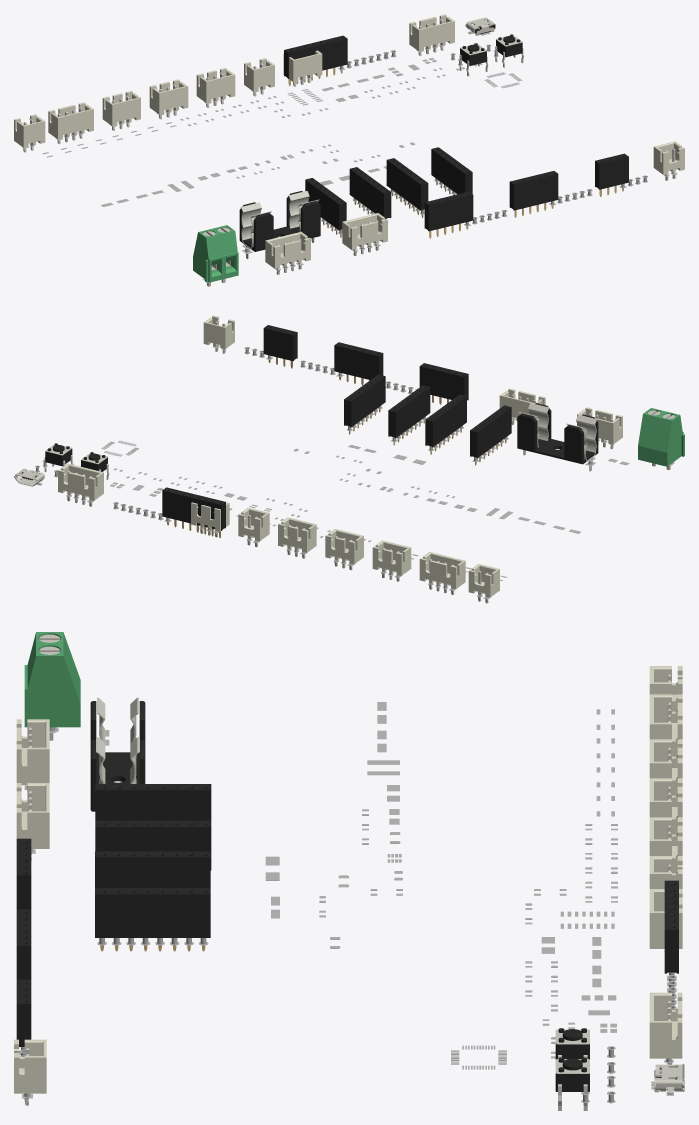
File: tht_pins.glb
3 views of the same model, one above another, from view 1: azimuth 30°, elevation 25°; view 2: azimuth 150°, elevation 25°; view 3: azimuth 270°, elevation 25° (orthographic). The views are drawn at different scales.
Parts seen in each view (by area): view 1: =>[0:1:1:5] (×5), =>[0:1:1:7] (×4), =>[0:1:1:21] (×4), =>[0:1:1:22], =>[0:1:1:11] (×2), =>[0:1:1:19], =>[0:1:1:13] (×3), =>[0:1:1:9], =>[0:1:1:17] (×2), =>[0:1:1:15]; view 2: =>[0:1:1:5] (×5), =>[0:1:1:7] (×4), =>[0:1:1:21] (×4), =>[0:1:1:22], =>[0:1:1:19], =>[0:1:1:11] (×2), =>[0:1:1:13] (×3), =>[0:1:1:9], =>[0:1:1:15], =>[0:1:1:17] (×2); view 3: =>[0:1:1:5] (×5), =>[0:1:1:7] (×4), =>[0:1:1:22], =>[0:1:1:21] (×4), =>[0:1:1:9], =>[0:1:1:13] (×3), =>[0:1:1:19], =>[0:1:1:17] (×2), =>[0:1:1:11] (×2), =>[0:1:1:15], =>[0:1:1:3].
Boxes of the visible parts, <box> form: =>[0:1:1:5] (×5): <box>284,35,472,237</box>; =>[0:1:1:7] (×4): <box>48,14,454,274</box>; =>[0:1:1:21] (×4): <box>102,50,322,130</box>; =>[0:1:1:22]: <box>21,32,677,282</box>; =>[0:1:1:11] (×2): <box>424,171,558,238</box>; =>[0:1:1:19]: <box>239,191,320,258</box>; =>[0:1:1:13] (×3): <box>14,58,684,180</box>; =>[0:1:1:9]: <box>193,225,238,286</box>; =>[0:1:1:17] (×2): <box>458,34,523,76</box>; =>[0:1:1:15]: <box>595,153,628,196</box>; =>[0:1:1:5] (×5): <box>162,374,511,537</box>; =>[0:1:1:7] (×4): <box>58,388,622,594</box>; =>[0:1:1:21] (×4): <box>191,502,411,581</box>; =>[0:1:1:22]: <box>35,345,674,599</box>; =>[0:1:1:19]: <box>517,403,598,471</box>; =>[0:1:1:11] (×2): <box>334,342,468,404</box>; =>[0:1:1:13] (×3): <box>203,315,499,603</box>; =>[0:1:1:9]: <box>638,408,684,469</box>; =>[0:1:1:15]: <box>263,325,297,368</box>; =>[0:1:1:17] (×2): <box>44,443,109,479</box>; =>[0:1:1:5] (×5): <box>95,784,678,973</box>; =>[0:1:1:7] (×4): <box>16,694,682,1064</box>; =>[0:1:1:22]: <box>19,702,676,1103</box>; =>[0:1:1:21] (×4): <box>649,739,682,948</box>; =>[0:1:1:9]: <box>24,632,80,740</box>; =>[0:1:1:13] (×3): <box>14,666,682,1105</box>; =>[0:1:1:19]: <box>90,697,145,811</box>; =>[0:1:1:17] (×2): <box>555,1028,589,1110</box>; =>[0:1:1:11] (×2): <box>16,838,31,979</box>; =>[0:1:1:15]: <box>16,979,31,1046</box>; =>[0:1:1:3]: <box>654,1064,684,1094</box>.
Size of the model in its own units: 0.1633 by 0.0178 by 0.1176.
